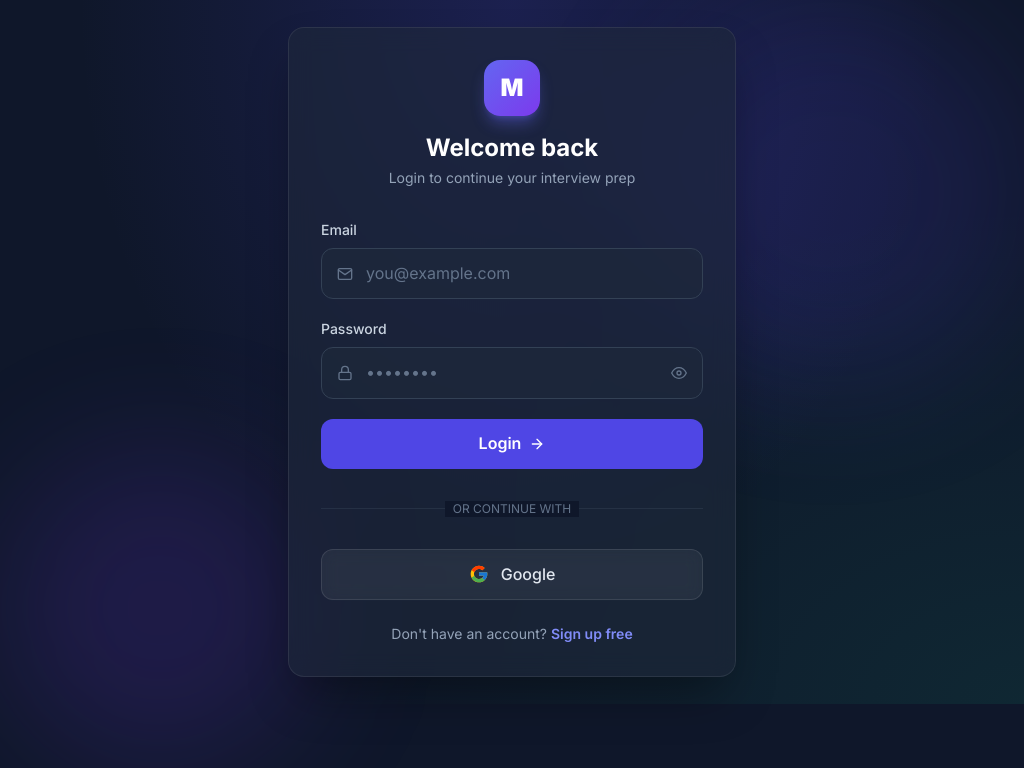
Scenario: Login Page › shows error for invalid email
The width and height of the screenshot is (1024, 768).
Type "notanemail" into the field labelled "Email".
click(512, 274); type("notanemail")  # box [321, 248, 703, 299]
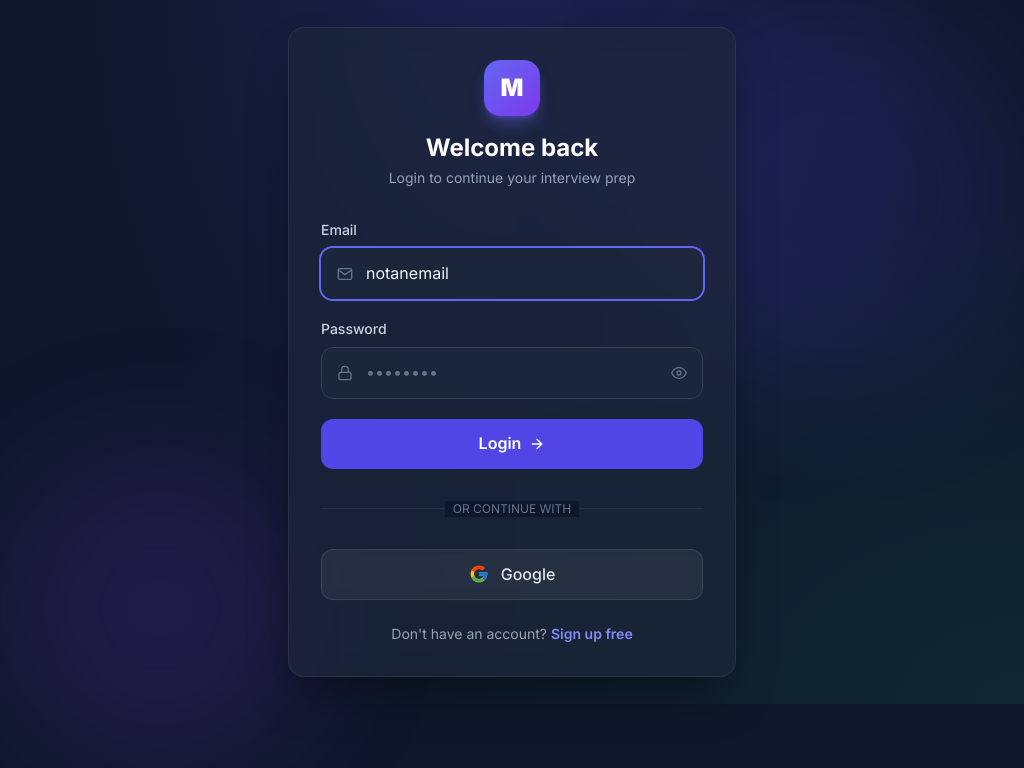
Click the button "Login".
click(512, 444)  # box [321, 419, 703, 469]
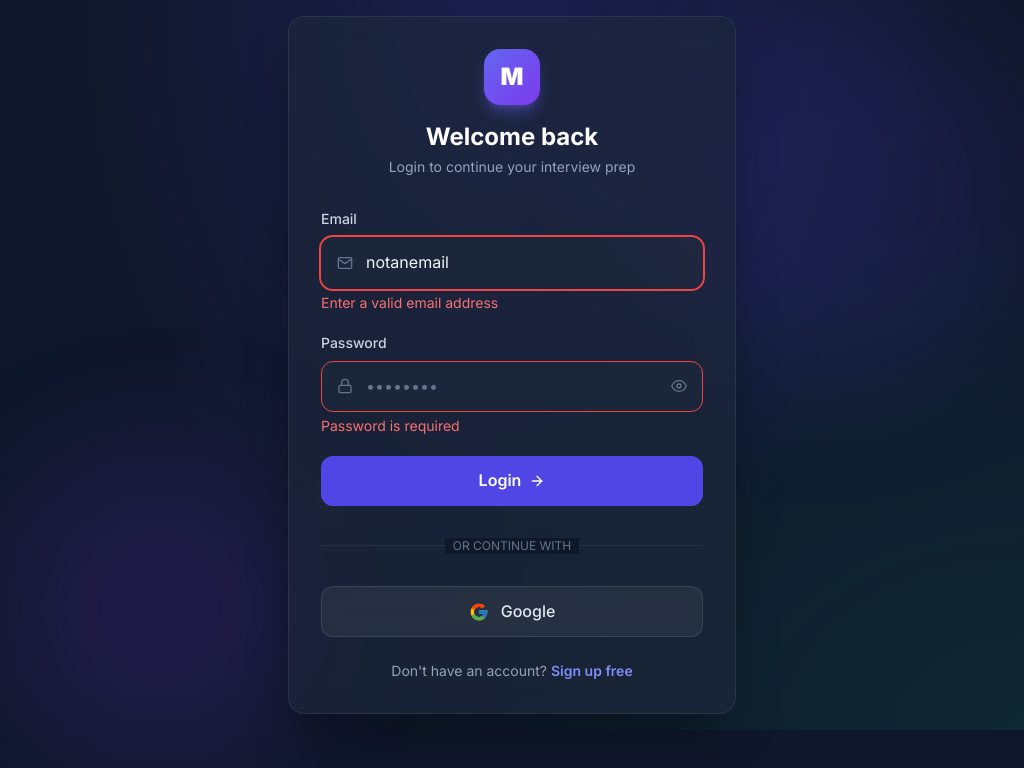
Expected: the text "Enter a valid email address" is shown, [321, 294, 498, 311]
